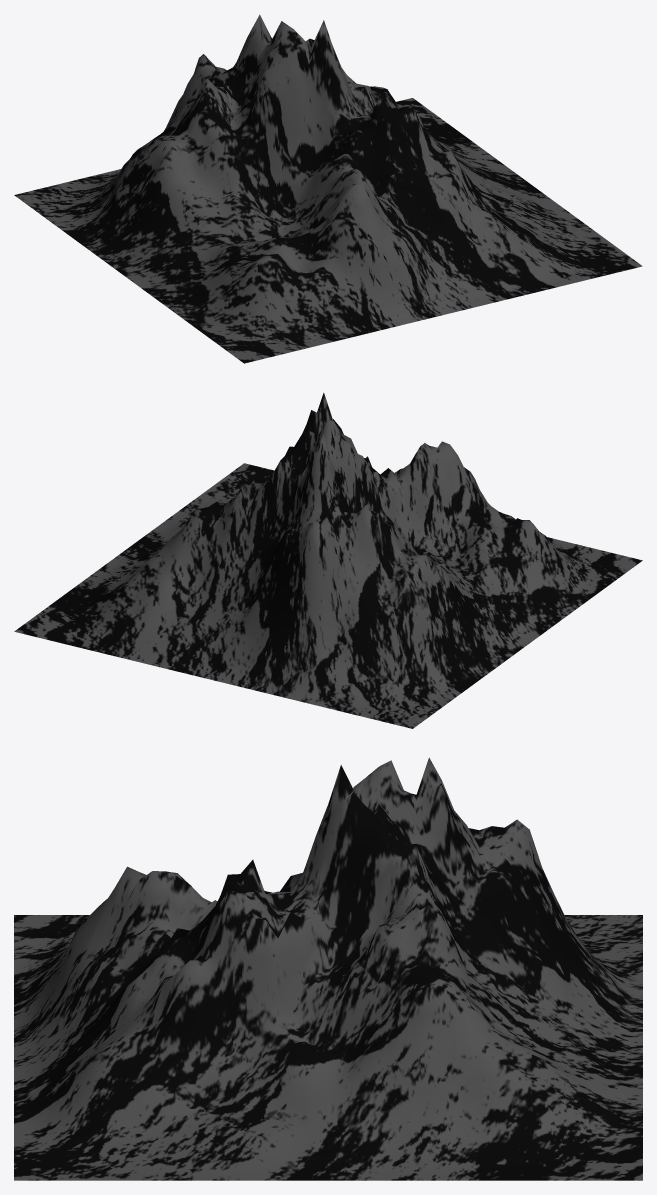
Rendered from TerrainModel.fbx.
3 renders of one model, top to bottom at view 1: azimuth 30°, elevation 25°; view 2: azimuth 150°, elevation 25°; view 3: azimuth 270°, elevation 25°, orthographic. The views are drawn at different scales.
Visible parts, largest first — view 1: Landscape.002; view 2: Landscape.002; view 3: Landscape.002.
Boxes of the visible parts, bbox=[...] form: Landscape.002: bbox=[14, 14, 642, 363]; Landscape.002: bbox=[14, 392, 642, 728]; Landscape.002: bbox=[14, 757, 642, 1180].
Size of the model in its own units: 200 by 99.42 by 200.
